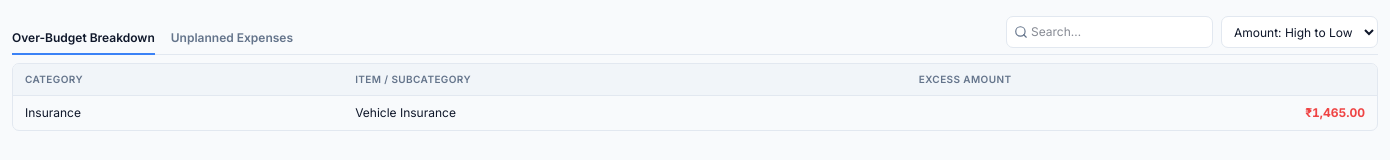
Scenario: BudgetFlagsTableInner › shows an empty message on a tab with nothing to show, without losing the other tab
Click the tab "Unplanned Expenses".
click(232, 39)  # box [171,23,293,55]
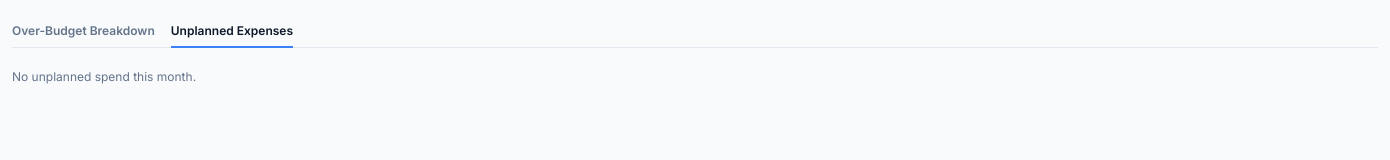
expect the tab "Over-Budget Breakdown" is shown: met, box [12,16,155,48]
expect the text "No unplanned spend this month." is shown: met, box [12,69,196,84]
